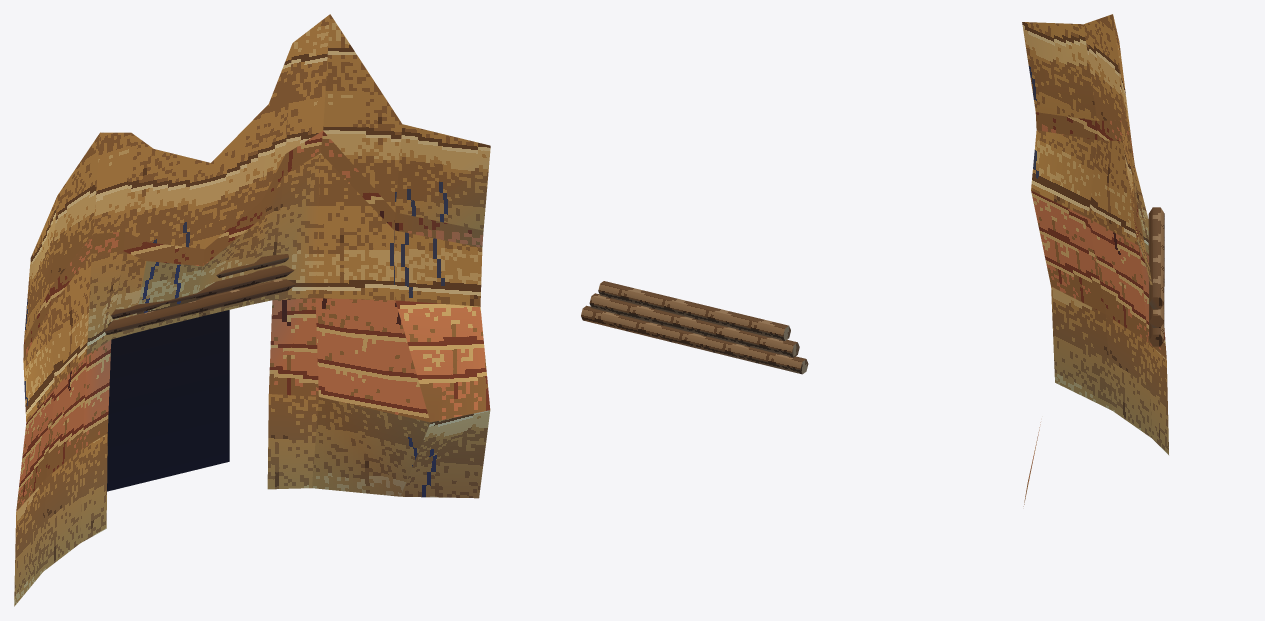
The model's file is wmine.portal__bare.glb.
3 views of the same model, side by side, from view 1: azimuth 30°, elevation 25°; view 2: azimuth 150°, elevation 25°; view 3: azimuth 270°, elevation 25° (orthographic).
Parts seen in each view (by area): view 1: kit_shell_face, kit_card_depth, kit_lagging; view 2: kit_lagging; view 3: kit_shell_face, kit_lagging.
Part boxes in pixels (bbox=[...]): kit_shell_face: bbox=[14, 14, 490, 606]; kit_card_depth: bbox=[107, 310, 229, 491]; kit_lagging: bbox=[105, 254, 296, 334]; kit_lagging: bbox=[581, 281, 808, 374]; kit_shell_face: bbox=[1022, 14, 1168, 506]; kit_lagging: bbox=[1148, 207, 1164, 346].
Bounding box in the file's own units: 8 × 8.15 × 3.45.
Materials: 4 (4 with a texture image).
